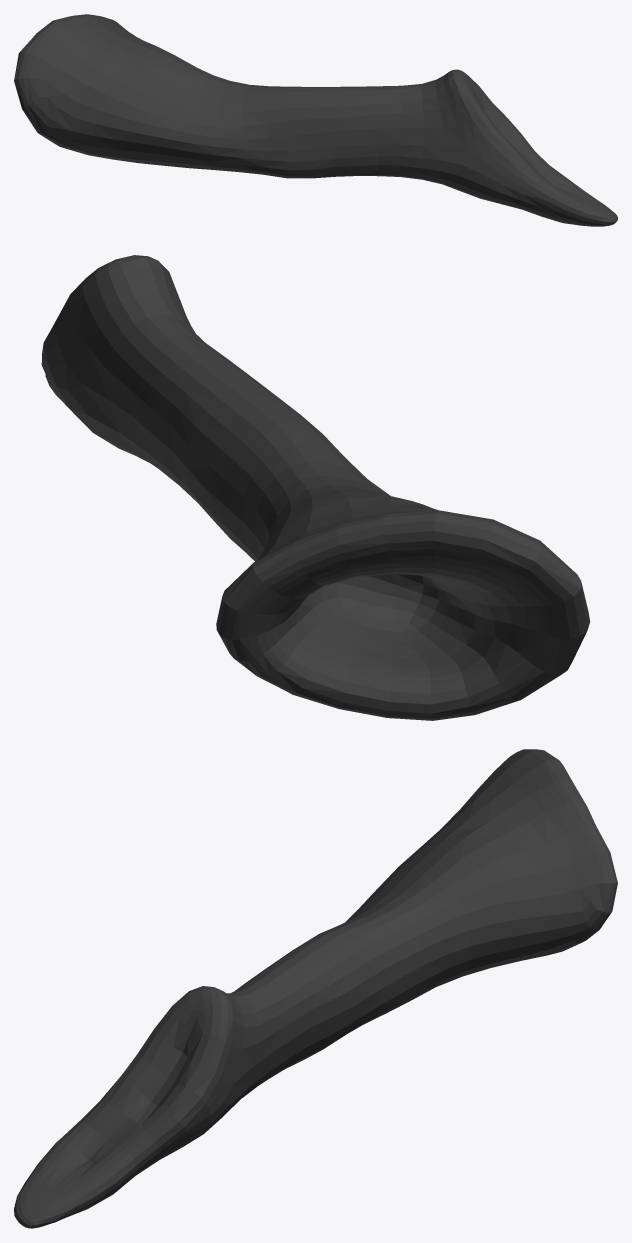
The model's file is Vestibular_aqueduct_L.glb.
3 renders of one model, top to bottom at view 1: azimuth 30°, elevation 25°; view 2: azimuth 150°, elevation 25°; view 3: azimuth 270°, elevation 25°, orthographic. The views are drawn at different scales.
Visible parts, largest first — view 1: Vestibular_aqueduct_L; view 2: Vestibular_aqueduct_L; view 3: Vestibular_aqueduct_L.
Part boxes in pixels (box(x1,y1,x2,y2)): Vestibular_aqueduct_L: box(14, 14, 617, 226); Vestibular_aqueduct_L: box(41, 255, 590, 720); Vestibular_aqueduct_L: box(14, 749, 617, 1228).
Size of the model in its own units: 0.5528 by 0.1923 by 0.4791.
1 material, 1 textured.
